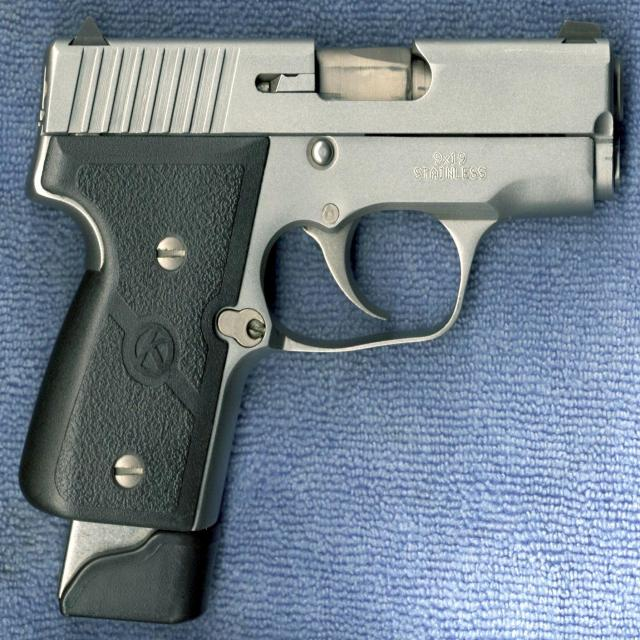pistol: (21, 11, 631, 626)
